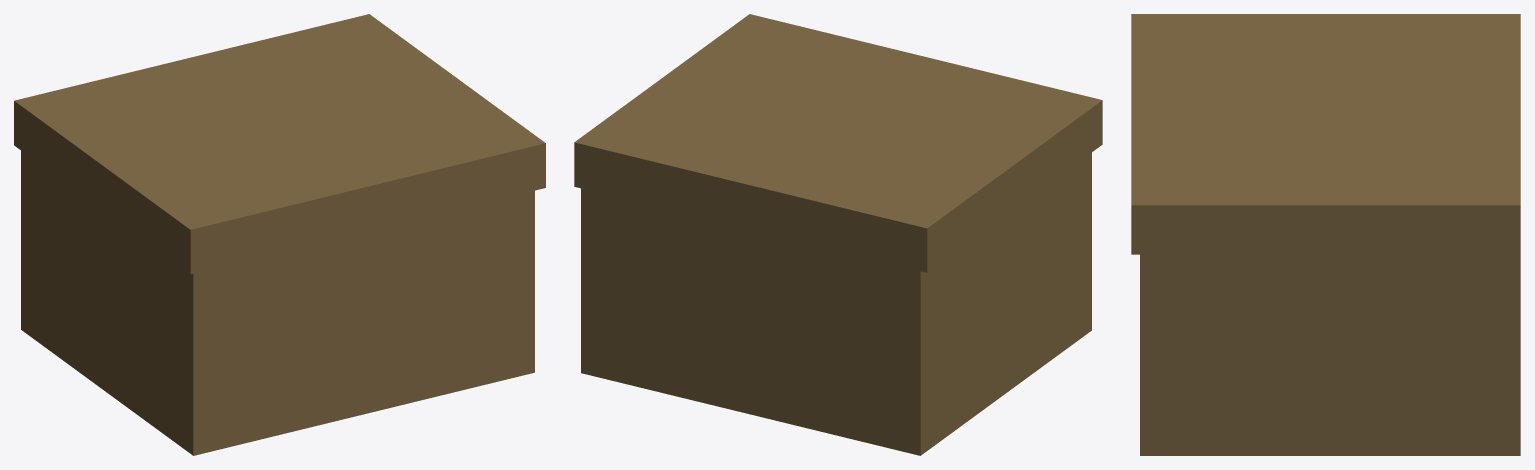
File: CardBoardBox_H40x35x25.FBX
3 views of the same model, side by side, from view 1: azimuth 30°, elevation 25°; view 2: azimuth 150°, elevation 25°; view 3: azimuth 270°, elevation 25° (orthographic). The views are drawn at different scales.
Visible parts, largest first — view 1: CarboardBox_40x35x25_001, CarboardLid_0021; view 2: CarboardBox_40x35x25_001, CarboardLid_0021; view 3: CarboardLid_0021, CarboardBox_40x35x25_001.
Part boxes in pixels (left/top/right/bottom): CarboardBox_40x35x25_001: left=21, top=151, right=534, bottom=455; CarboardLid_0021: left=14, top=14, right=545, bottom=274; CarboardBox_40x35x25_001: left=581, top=151, right=1091, bottom=455; CarboardLid_0021: left=574, top=14, right=1102, bottom=272; CarboardLid_0021: left=1131, top=14, right=1520, bottom=254; CarboardBox_40x35x25_001: left=1140, top=254, right=1520, bottom=455.
Size of the model in its own units: 41.6 by 25.8 by 35.8.
